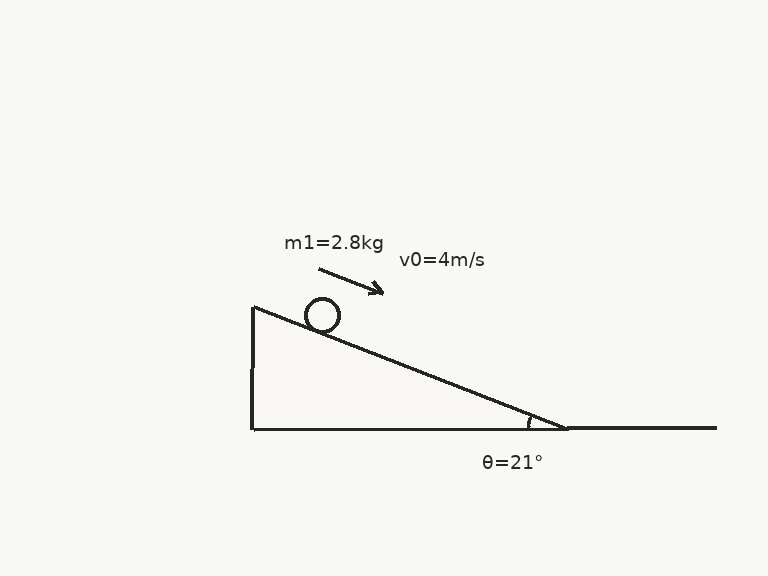ball: (302, 295, 342, 335)
ramp: (250, 306, 570, 431)
